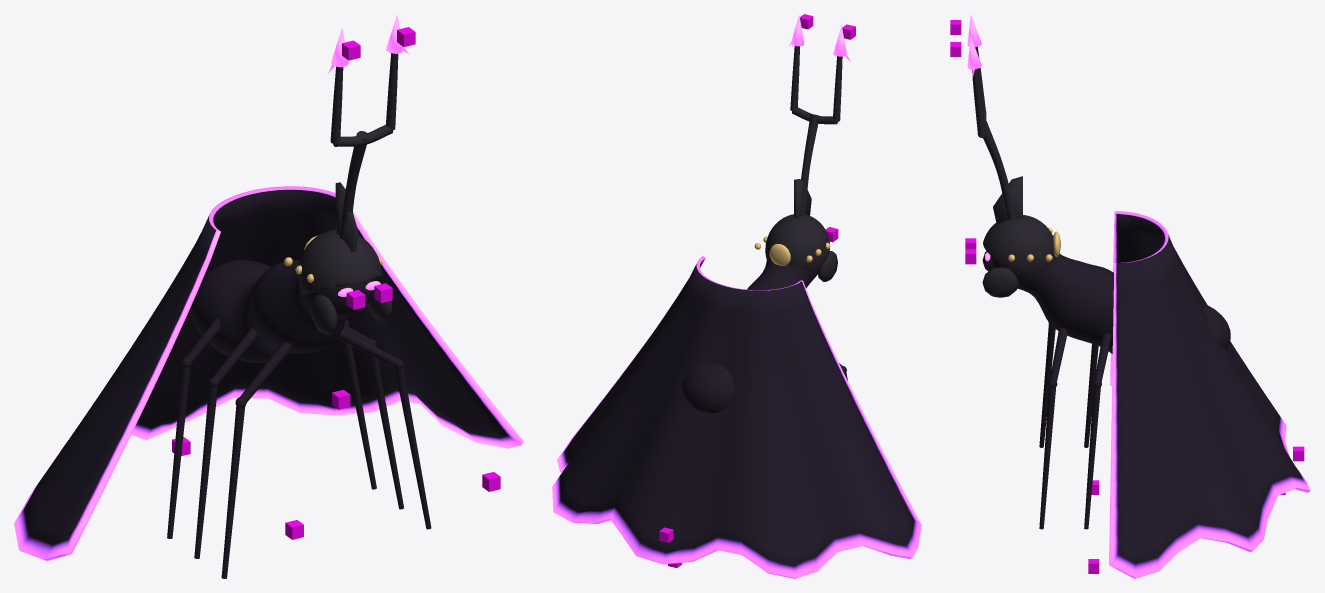
Rendered from 03_ade_ombretta.glb.
3 views of the same model, side by side, from view 1: azimuth 30°, elevation 25°; view 2: azimuth 150°, elevation 25°; view 3: azimuth 270°, elevation 25° (orthographic). The views are drawn at different scales.
Visible parts, largest first — view 1: Ade__Mantello_Bordo_Viola, Ade__Chitina_Nera, Ade__Elmo_Oscurita, Ade__Punte_Bidente; view 2: Ade__Mantello_Bordo_Viola, Ade__Elmo_Oscurita, Ade__Chitina_Nera, Ade__Ricchezze_Oro, Ade__Punte_Bidente; view 3: Ade__Mantello_Bordo_Viola, Ade__Chitina_Nera, Ade__Elmo_Oscurita, Ade__Punte_Bidente.
Boxes of the visible parts, bbox=[...] form: Ade__Mantello_Bordo_Viola: bbox=[14, 186, 523, 560]; Ade__Chitina_Nera: bbox=[167, 259, 431, 578]; Ade__Elmo_Oscurita: bbox=[298, 53, 398, 334]; Ade__Punte_Bidente: bbox=[327, 14, 409, 74]; Ade__Mantello_Bordo_Viola: bbox=[552, 256, 921, 578]; Ade__Elmo_Oscurita: bbox=[765, 46, 842, 281]; Ade__Chitina_Nera: bbox=[682, 260, 847, 413]; Ade__Ricchezze_Oro: bbox=[754, 236, 830, 265]; Ade__Punte_Bidente: bbox=[788, 15, 850, 61]; Ade__Mantello_Bordo_Viola: bbox=[1109, 211, 1310, 578]; Ade__Chitina_Nera: bbox=[991, 254, 1230, 529]; Ade__Elmo_Oscurita: bbox=[972, 46, 1055, 297]; Ade__Punte_Bidente: bbox=[967, 14, 981, 77].
Bounding box in the file's own units: 3.63 × 4.16 × 2.9.
8 materials, 1 textured.
